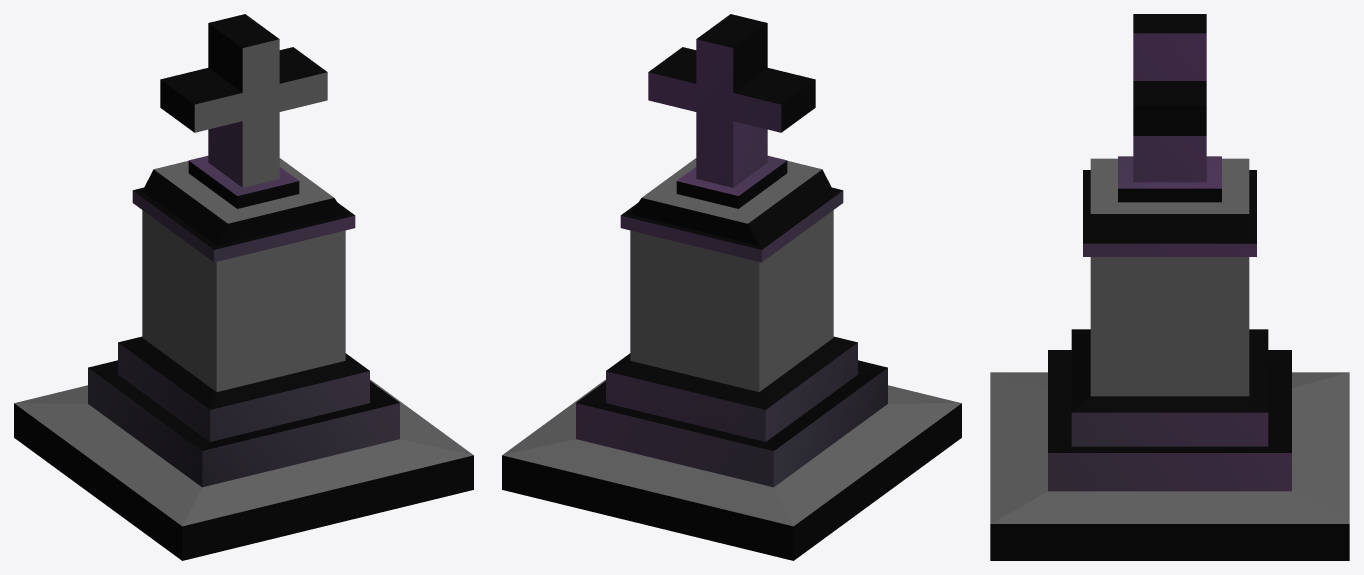
3 views of the same model, side by side, from view 1: azimuth 30°, elevation 25°; view 2: azimuth 150°, elevation 25°; view 3: azimuth 270°, elevation 25° (orthographic). The views are drawn at different scales.
Parts seen in each view (by area): view 1: grave1; view 2: grave1; view 3: grave1.
Boxes of the visible parts, left/top/right/bottom form: grave1: left=14, top=14, right=473, bottom=560; grave1: left=502, top=14, right=961, bottom=560; grave1: left=990, top=14, right=1349, bottom=560.
Bounding box in the file's own units: 452 × 641 × 452.
Materials: 3 (1 with a texture image).
